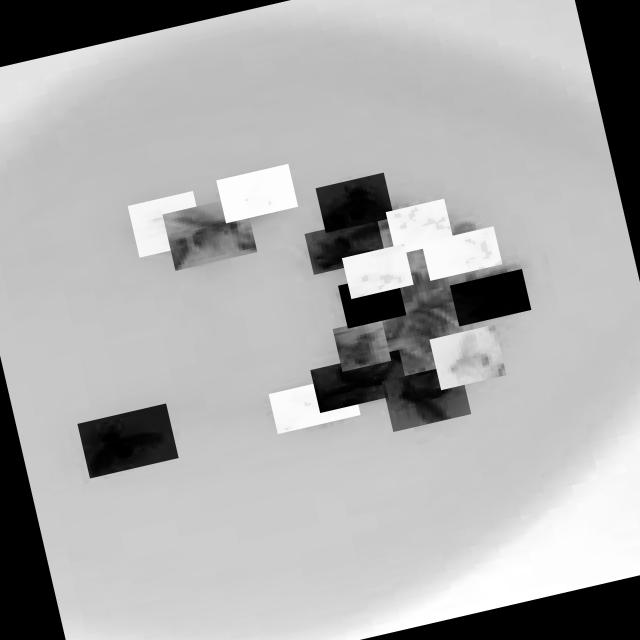fruit fly: (77, 402, 178, 477), (162, 194, 257, 269), (310, 348, 408, 412), (381, 362, 471, 431), (268, 373, 360, 432), (127, 189, 204, 256), (429, 323, 506, 389), (215, 162, 297, 222), (303, 216, 385, 274), (448, 268, 530, 326), (315, 172, 394, 232), (421, 224, 502, 280), (341, 242, 413, 298), (386, 198, 454, 254), (337, 271, 405, 327), (332, 317, 391, 371)
